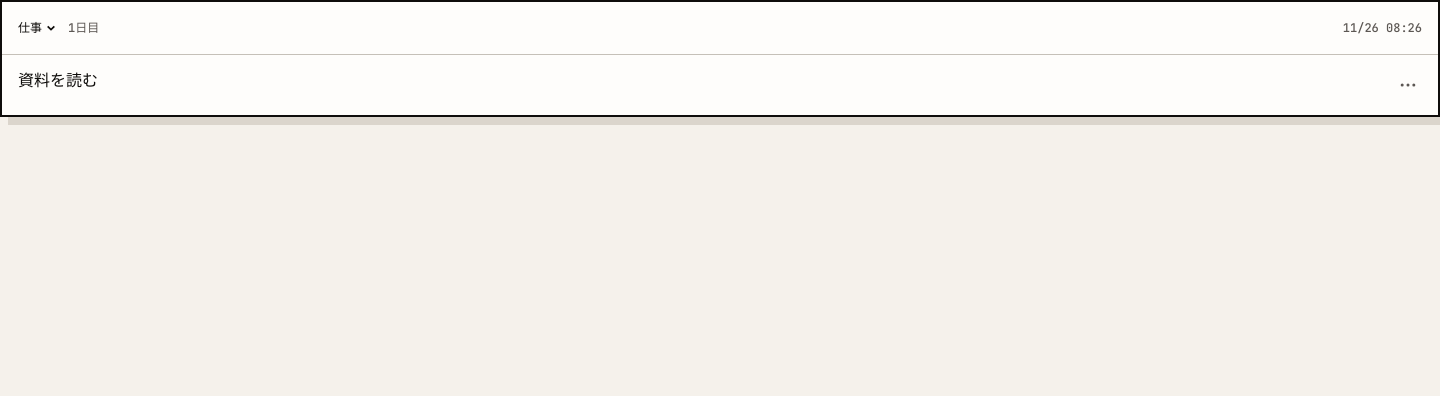
it: TaskCard actions › omits up or down when the card cannot move that way
What coordinates should you click on to do the following:
click the button named "操作"
I would click on:
 (1408, 85)
Its box is [1386,63,1430,107].
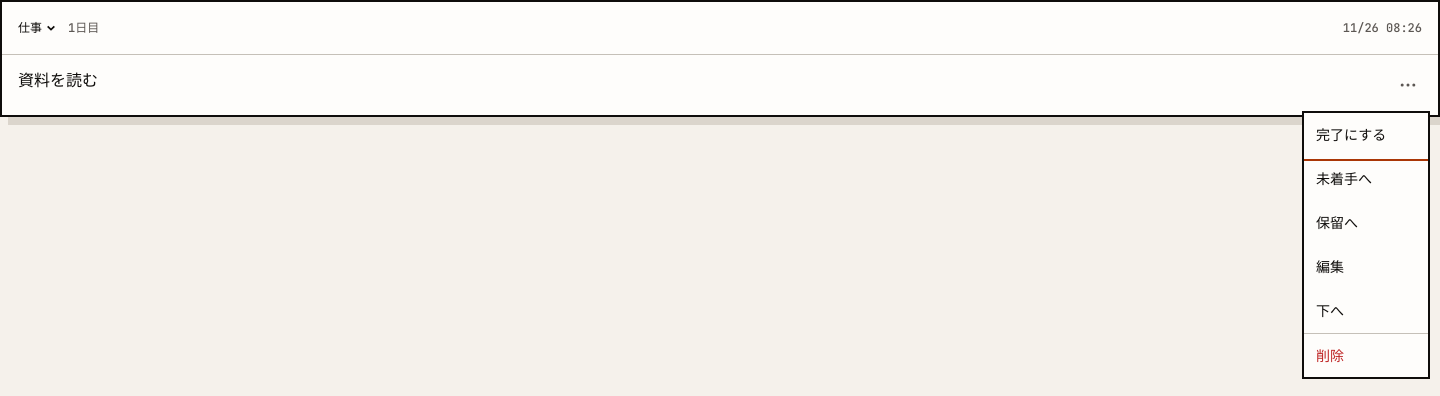
Expected: the menu item "下へ" is shown, [1304,289,1428,333]
